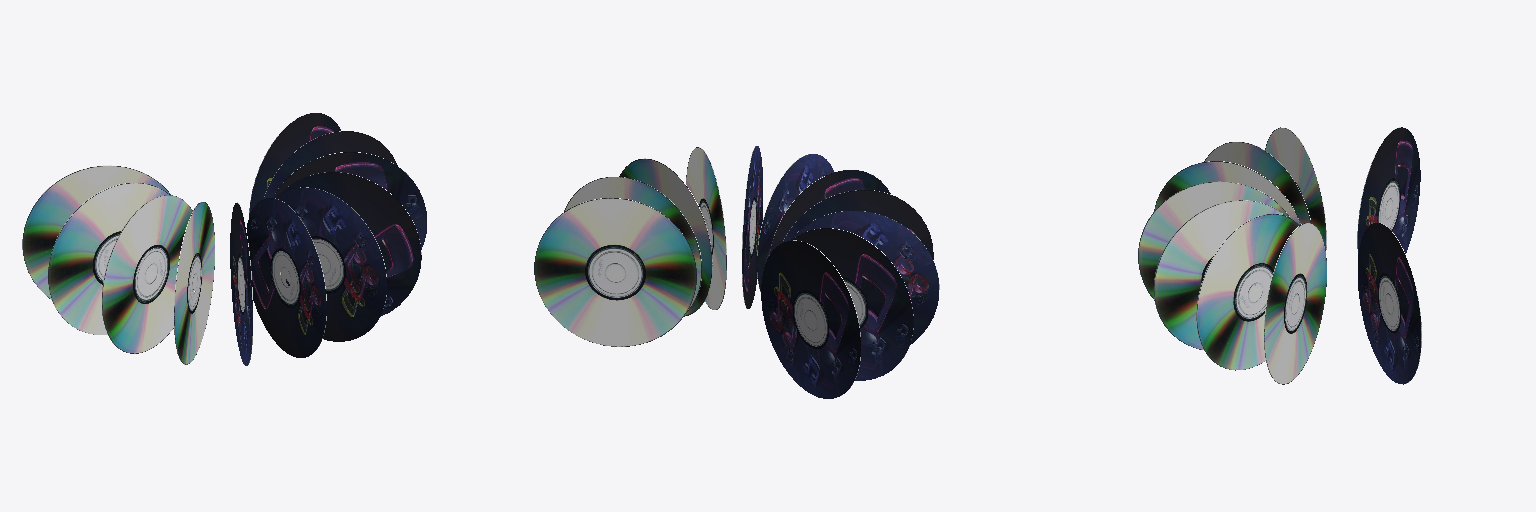
The picture shows the model from 3 angles: view 1: azimuth 30°, elevation 25°; view 2: azimuth 150°, elevation 25°; view 3: azimuth 270°, elevation 25°; orthographic projection.
Visible parts, largest first — view 1: cd; view 2: cd; view 3: cd.
Part boxes in pixels (bbox=[...]): cd: bbox=[22, 113, 426, 365]; cd: bbox=[534, 146, 939, 398]; cd: bbox=[1138, 127, 1421, 384].
Bounding box in the file's own units: 0.1425 × 0.0574 × 0.0991.
Materials: 1 (1 with a texture image).